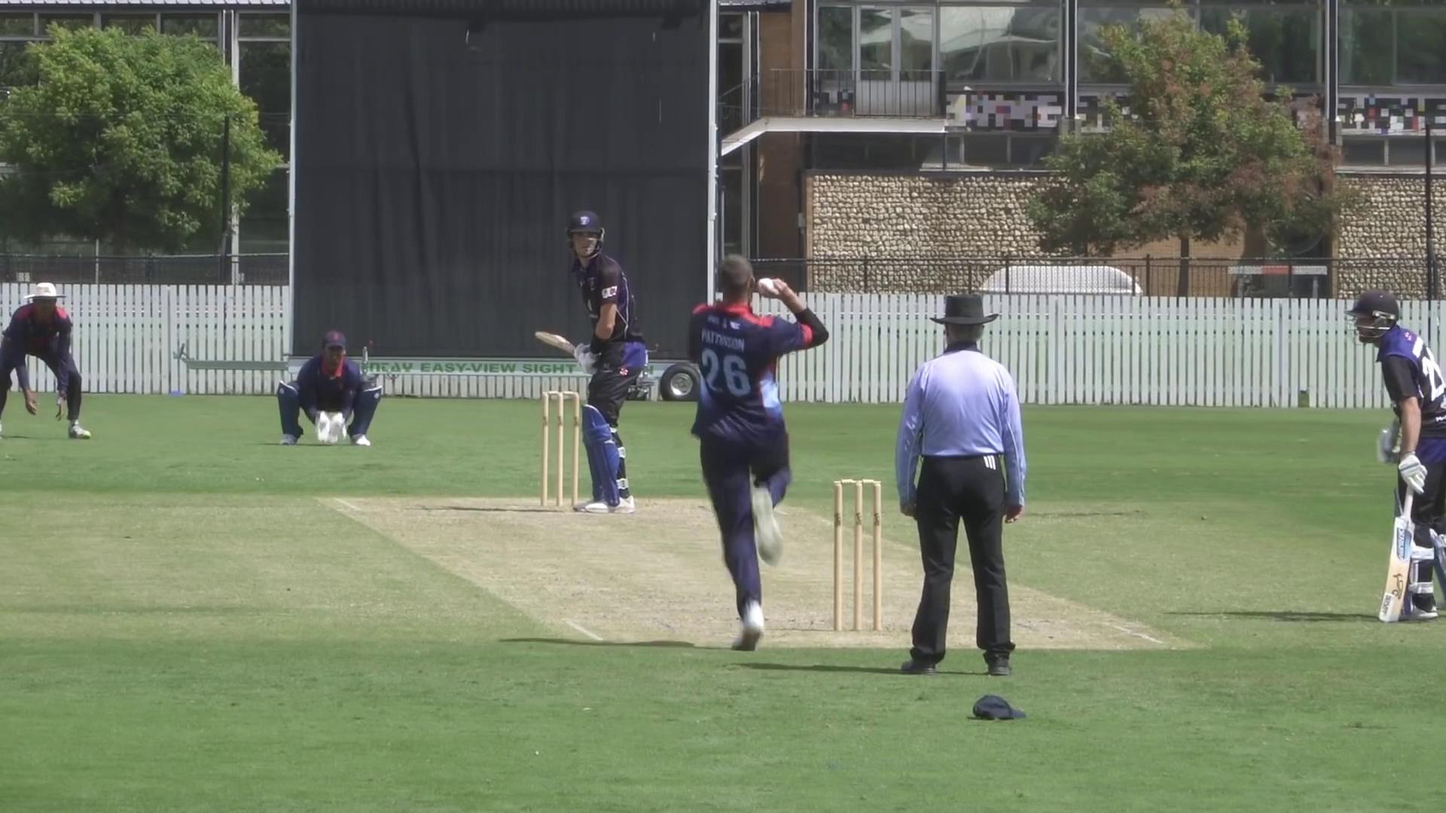ball: (754, 272, 780, 296)
